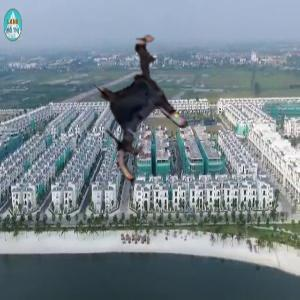drone: (68, 36, 211, 179)
